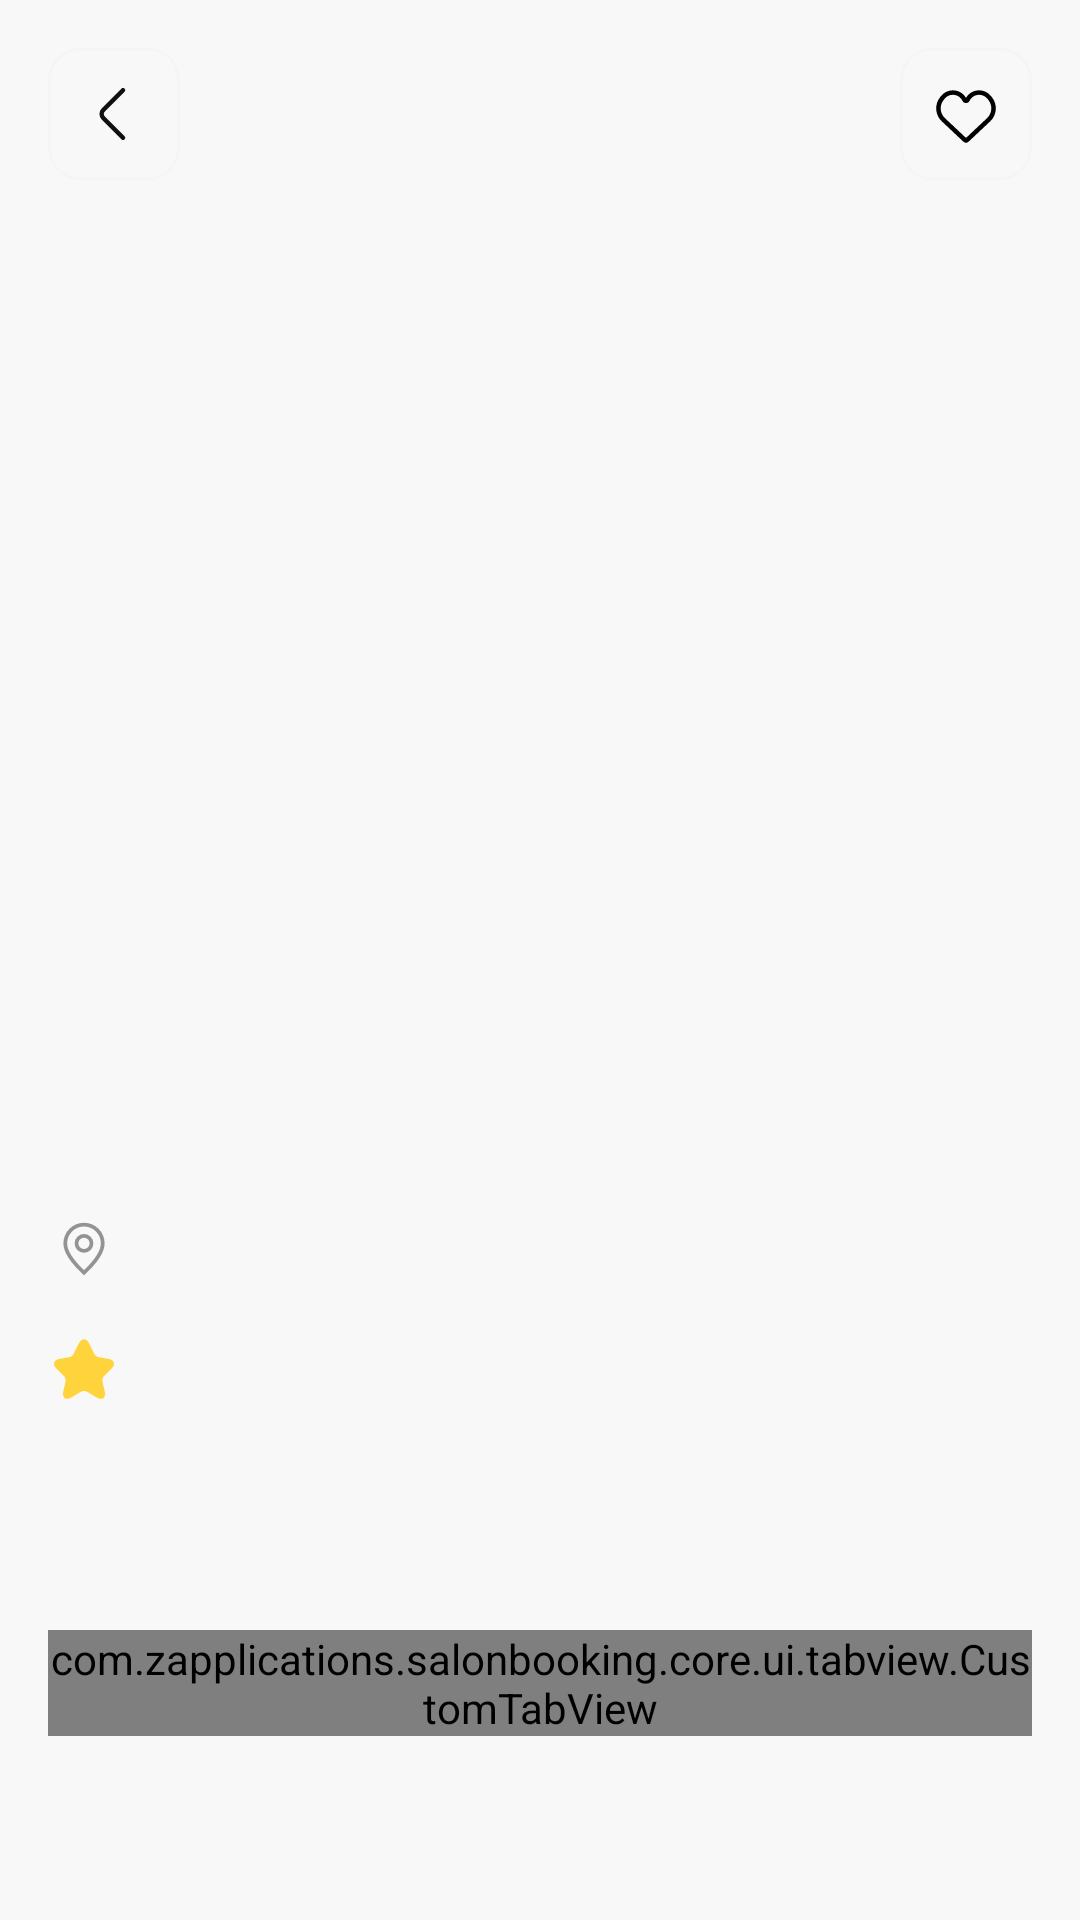

Named icons in this screenshot (1080 x 1920) and their bounding boxes, (x1, y1, x2, y2):
arrow back: (99, 88, 126, 140)
favorite: (936, 90, 996, 143)
location: (63, 1222, 105, 1275)
rating: (54, 1339, 114, 1399)
